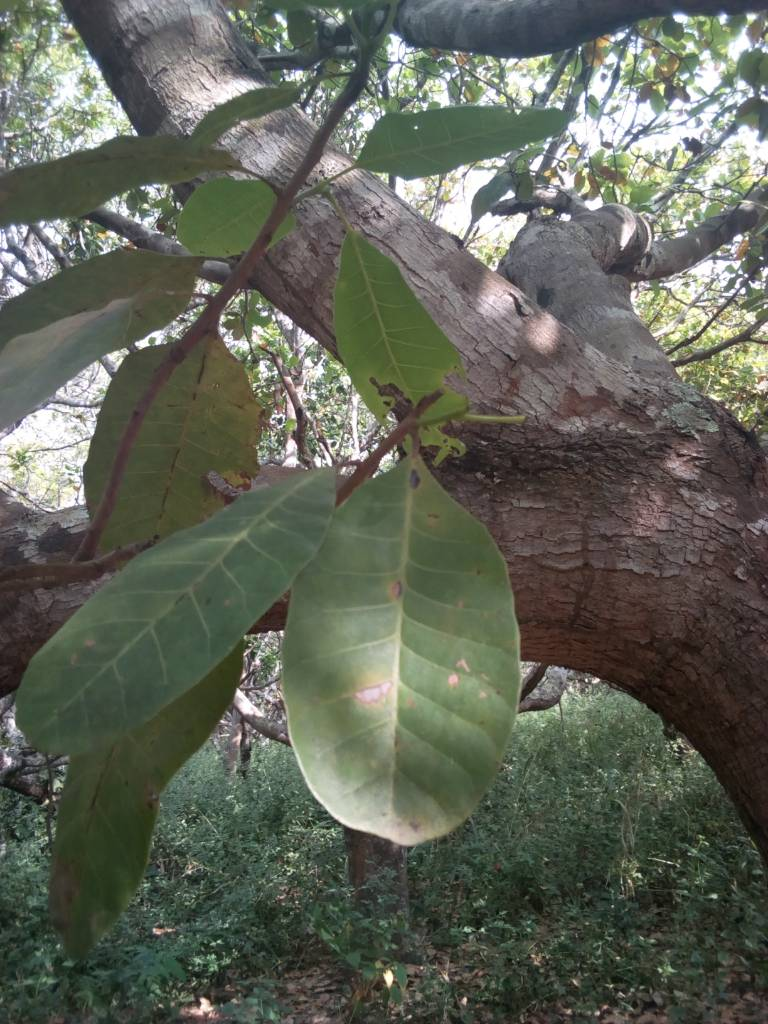Anthracnose: (282, 467, 519, 846)
